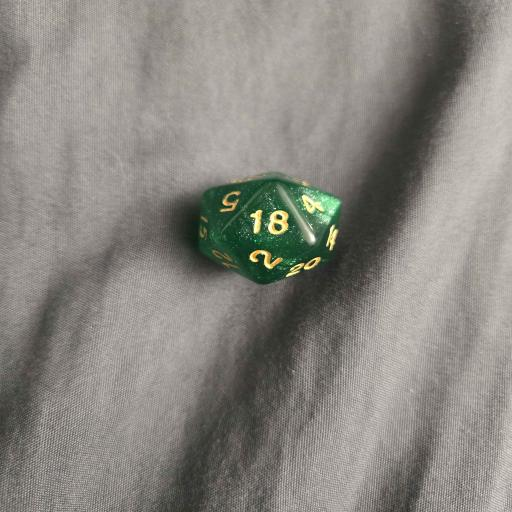twenty sided dice: (198, 172, 342, 284)
